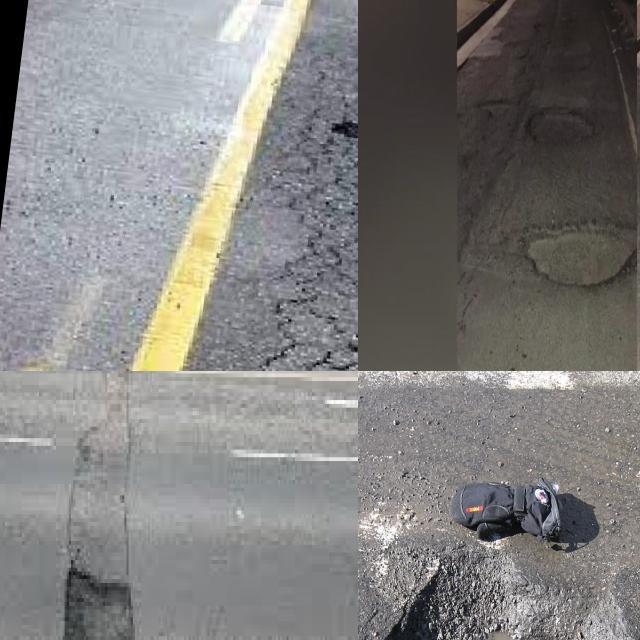Pothole: (384, 557, 634, 640), (528, 231, 633, 285), (65, 575, 135, 640), (320, 115, 358, 214), (530, 114, 592, 142), (332, 122, 358, 139)
